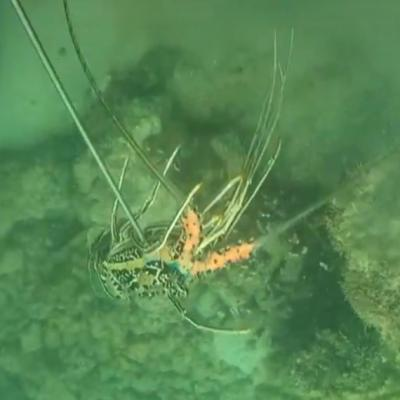lobster: (90, 187, 233, 301)
